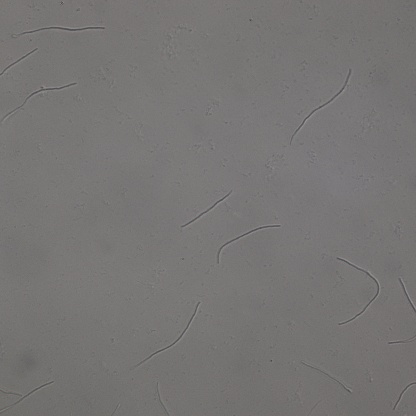Sensitive: (289, 69, 351, 145), (133, 301, 201, 369), (333, 256, 380, 328), (1, 83, 76, 126), (216, 224, 280, 264), (182, 189, 232, 228), (1, 380, 55, 413), (301, 361, 350, 393), (13, 24, 105, 38), (1, 49, 38, 76)
